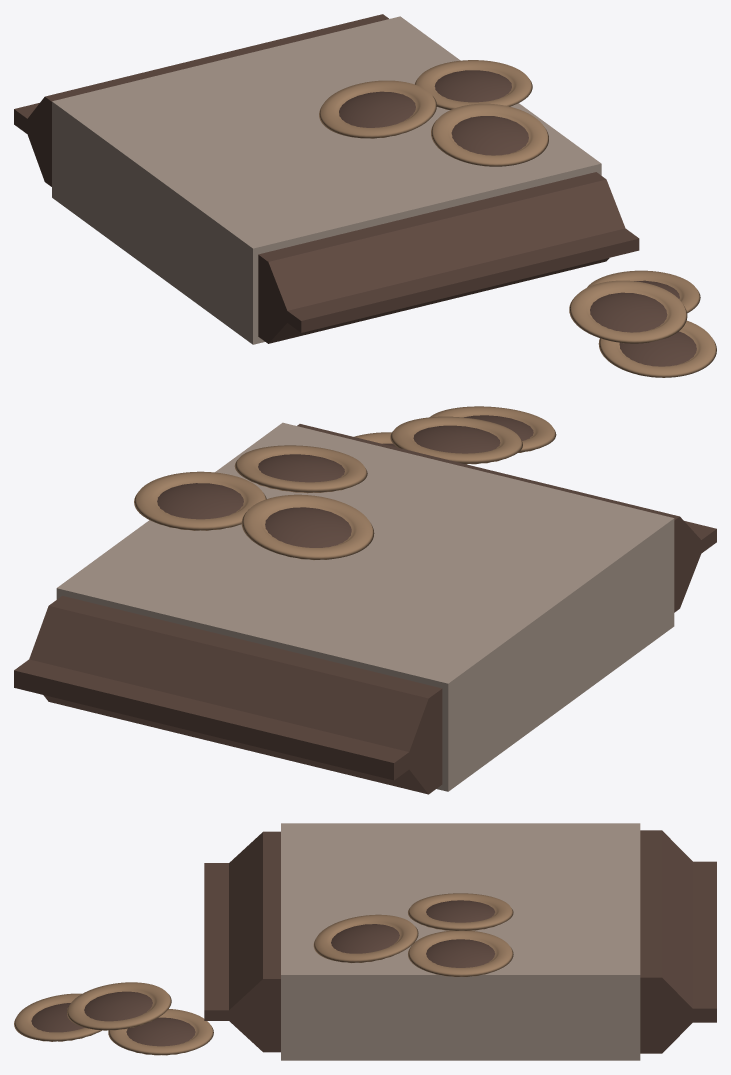
The model's file is colored biscuits.fbx.
3 views of the same model, one above another, from view 1: azimuth 30°, elevation 25°; view 2: azimuth 150°, elevation 25°; view 3: azimuth 270°, elevation 25° (orthographic). The views are drawn at different scales.
Visible parts, largest first — view 1: pCube2, pCube1, pCylinder7, pSphere7; view 2: pCube2, pCube1, pCylinder7, pSphere7; view 3: pCube2, pCube1, pCylinder7, pSphere7.
Boxes of the visible parts, <box> form: pCube2: <box>52,16,601,344</box>; pCube1: <box>14,14,639,343</box>; pCylinder7: <box>319,60,716,377</box>; pSphere7: <box>339,70,696,366</box>; pCube2: <box>56,422,674,791</box>; pCube1: <box>14,424,716,794</box>; pCylinder7: <box>134,406,556,560</box>; pSphere7: <box>157,415,533,547</box>; pCube2: <box>281,823,640,1060</box>; pCube1: <box>204,830,716,1053</box>; pCylinder7: <box>14,893,513,1055</box>; pSphere7: <box>31,900,495,1046</box>.
Bounding box in the file's own units: 0.264 × 0.0774 × 0.4839.
